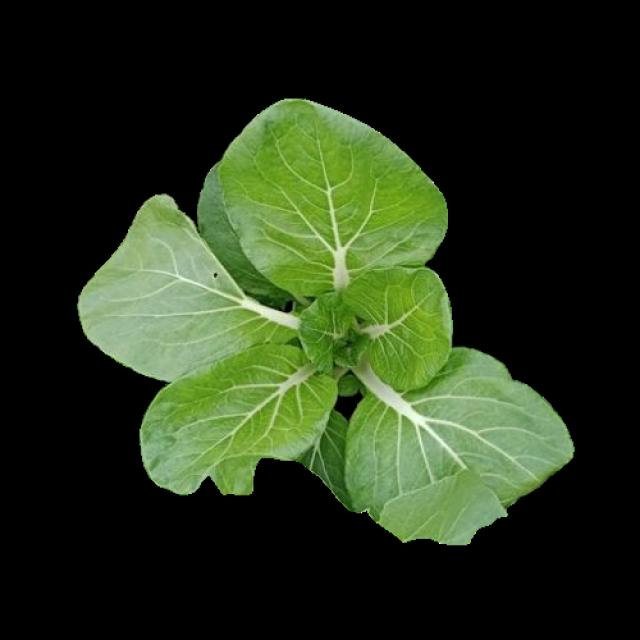healthy: (79, 99, 561, 531)
mature: (82, 101, 563, 534)
